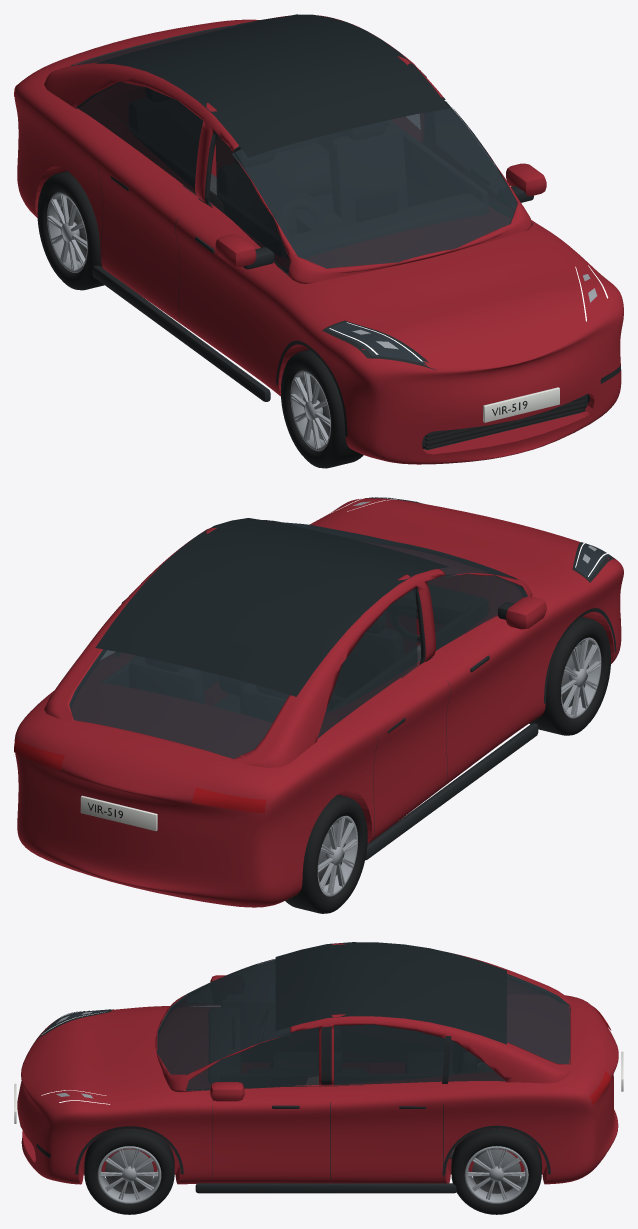
3 renders of one model, top to bottom at view 1: azimuth 30°, elevation 25°; view 2: azimuth 150°, elevation 25°; view 3: azimuth 270°, elevation 25°, orthographic. The views are drawn at different scales.
Parts seen in each view (by area): view 1: body, glazing_windscreen, glazing_rear-1, wheel_FL, wheel_RL, glazing_front-1, glazing_rear_glass; view 2: body, glazing_rear_glass, glazing_rear-1, wheel_RL, wheel_FL, glazing_front-1, glazing_windscreen; view 3: body, glazing_windscreen, glazing_rear1, wheel_FR, wheel_RR, glazing_front1, glazing_rear_glass.
Part boxes in pixels (bbox=[...]): body: bbox=[14, 14, 623, 464]; glazing_windscreen: bbox=[232, 101, 517, 268]; glazing_rear-1: bbox=[77, 81, 203, 193]; wheel_FL: bbox=[280, 349, 363, 468]; wheel_RL: bbox=[37, 171, 104, 290]; glazing_front-1: bbox=[215, 132, 290, 273]; glazing_rear_glass: bbox=[74, 22, 251, 65]; body: bbox=[14, 497, 623, 907]; glazing_rear_glass: bbox=[69, 649, 289, 758]; glazing_rear-1: bbox=[317, 588, 417, 738]; wheel_RL: bbox=[285, 794, 367, 913]; wheel_FL: bbox=[529, 616, 610, 735]; glazing_front-1: bbox=[427, 574, 526, 650]; glazing_windscreen: bbox=[273, 521, 512, 578]; body: bbox=[14, 942, 623, 1193]; glazing_windscreen: bbox=[157, 960, 290, 1074]; glazing_rear1: bbox=[334, 1024, 505, 1084]; wheel_FR: bbox=[84, 1128, 174, 1214]; wheel_RR: bbox=[451, 1128, 541, 1214]; glazing_front1: bbox=[186, 1027, 318, 1090]; glazing_rear_glass: bbox=[507, 974, 569, 1064].
Bounding box in the file's own units: 2.16 × 1.65 × 4.8.
